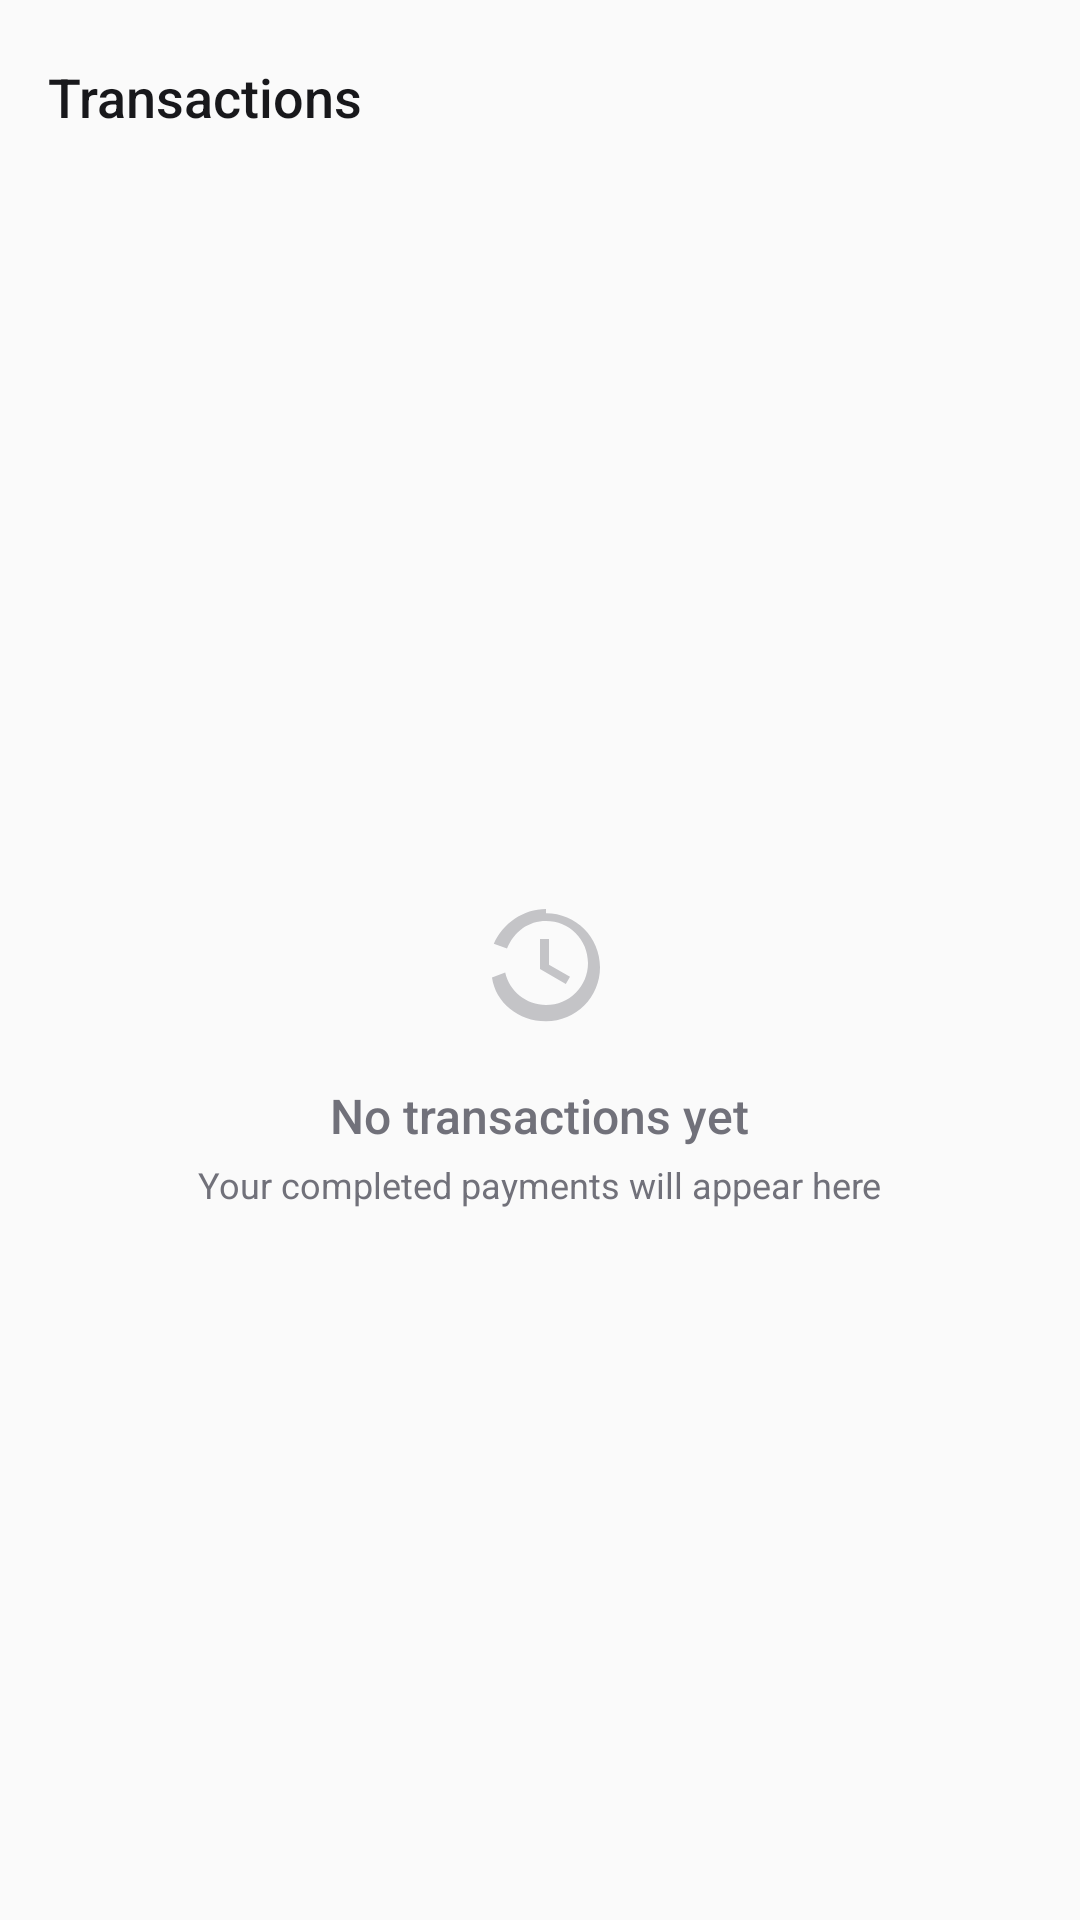

Named icons in this screenshot (1080 x 1920) and their bounding boxes, bbox=(x1, y1, x2, y2):
history: bbox=(492, 909, 600, 1021)
